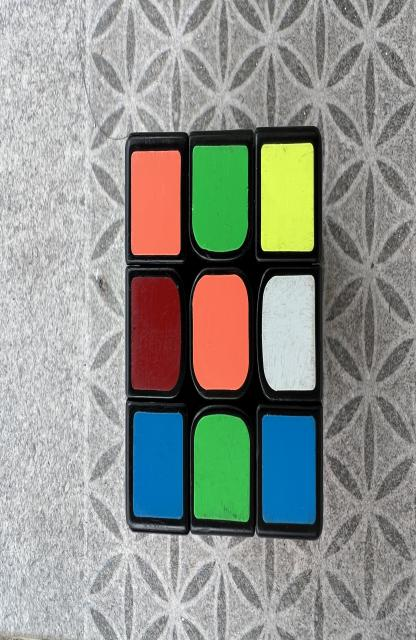Blue: (262, 415, 316, 525), (133, 412, 184, 520)
Green: (193, 413, 250, 522), (192, 145, 248, 252)
Orange: (193, 275, 249, 390), (131, 150, 181, 255)
Red: (132, 277, 181, 390)
White: (262, 275, 316, 390)
Yellow: (261, 143, 314, 252)
